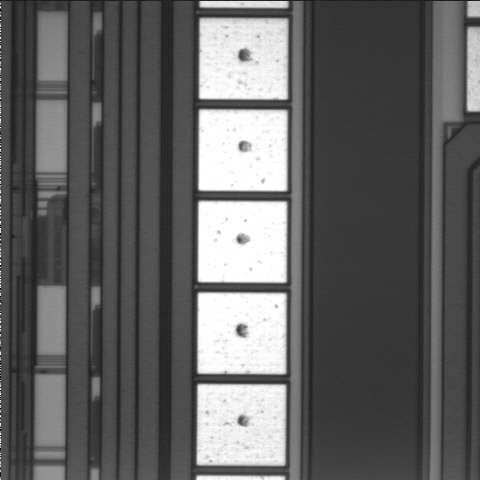pad: (199, 18, 288, 100), (198, 201, 287, 283), (197, 384, 286, 466), (198, 110, 288, 191), (198, 293, 286, 374)
